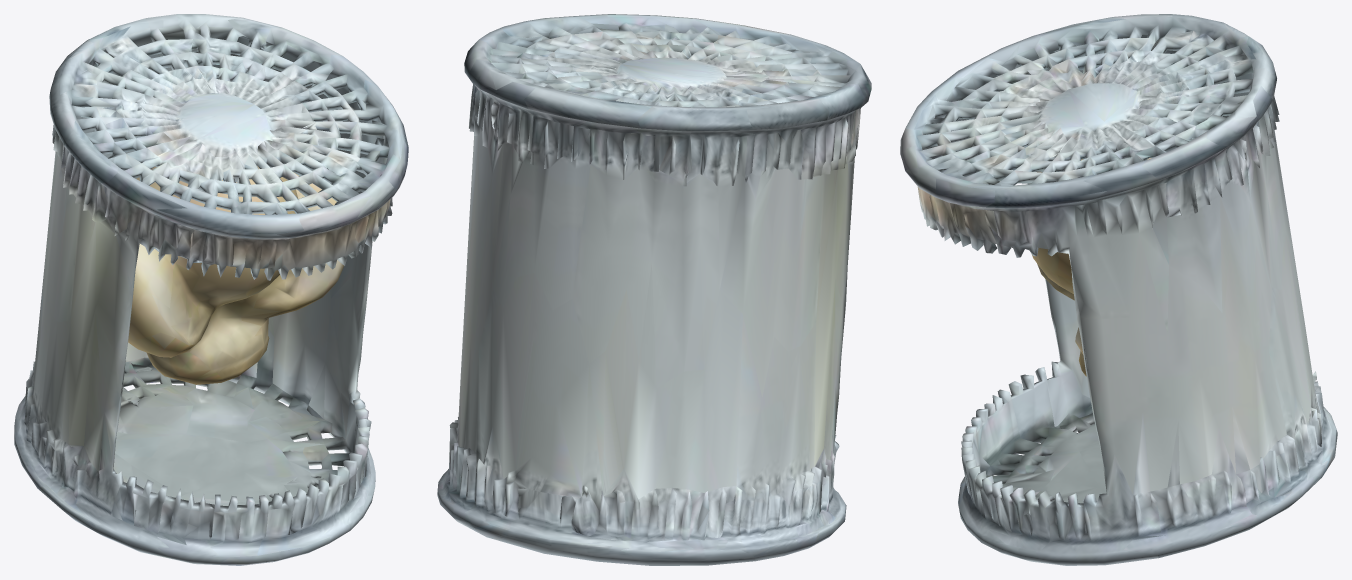
The model's file is diatom.glb.
The picture shows the model from 3 angles, left to right: view 1: azimuth 30°, elevation 25°; view 2: azimuth 150°, elevation 25°; view 3: azimuth 270°, elevation 25°; orthographic projection. The views are drawn at different scales.
Parts seen in each view (by area): view 1: tripo_node_9b63d9da-daec-4ad4-b0fc-462f64bf8834.002; view 2: tripo_node_9b63d9da-daec-4ad4-b0fc-462f64bf8834.002; view 3: tripo_node_9b63d9da-daec-4ad4-b0fc-462f64bf8834.002.
Boxes of the visible parts, x1=… form: tripo_node_9b63d9da-daec-4ad4-b0fc-462f64bf8834.002: x1=14, y1=14, x2=408, y2=565; tripo_node_9b63d9da-daec-4ad4-b0fc-462f64bf8834.002: x1=437, y1=14, x2=871, y2=565; tripo_node_9b63d9da-daec-4ad4-b0fc-462f64bf8834.002: x1=900, y1=14, x2=1337, y2=565.
Bounding box in the file's own units: 0.7506 × 1 × 0.8836.
Materials: 2 (2 with a texture image).
